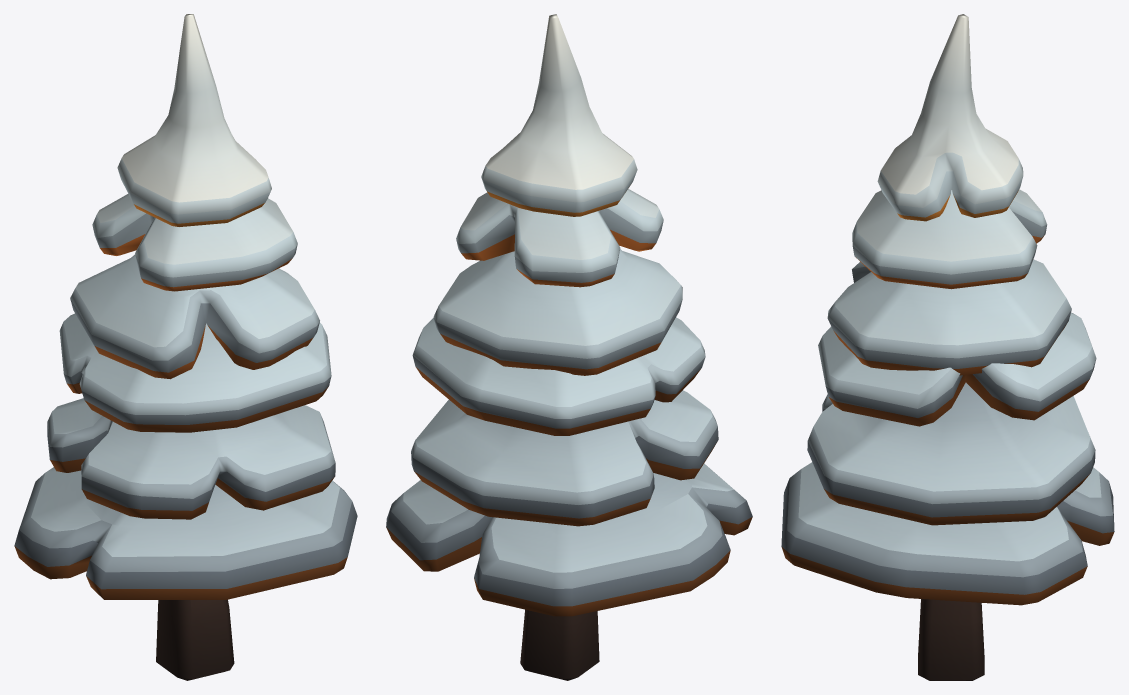
The model's file is pine_tree_col2_07_snow.fbx.
3 renders of one model, left to right at view 1: azimuth 30°, elevation 25°; view 2: azimuth 150°, elevation 25°; view 3: azimuth 270°, elevation 25°, orthographic.
Visible parts, largest first — view 1: pine_tree_col2_07_snow; view 2: pine_tree_col2_07_snow; view 3: pine_tree_col2_07_snow.
Part boxes in pixels (x1,y1,x2,y2): pine_tree_col2_07_snow: (14,14,357,680); pine_tree_col2_07_snow: (386,14,752,680); pine_tree_col2_07_snow: (781,14,1114,680).
Bounding box in the file's own units: 495 × 1040 × 478.
1 material, 1 textured.
